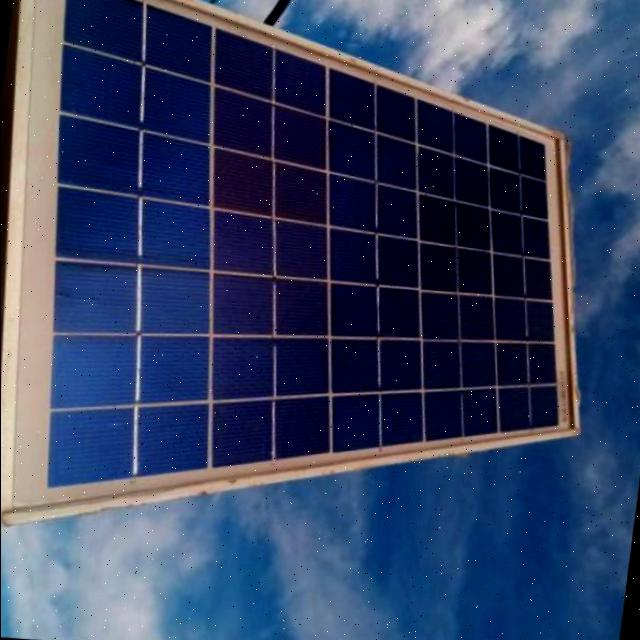Normal Solar Panel: (0, 0, 630, 582)
